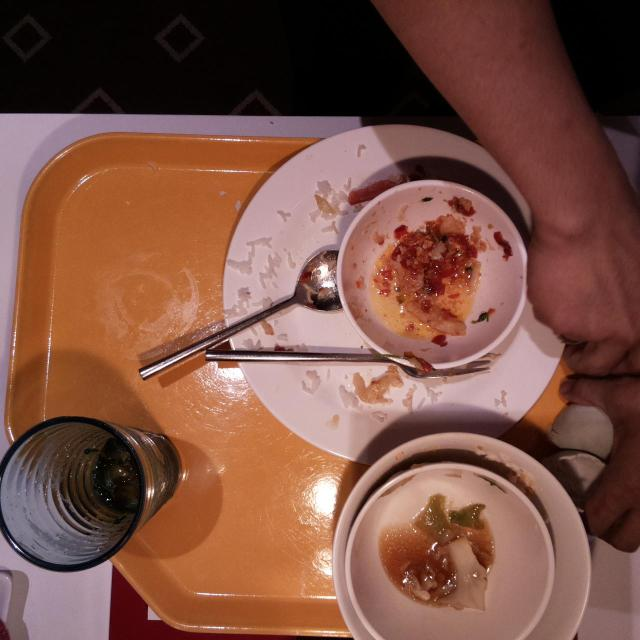Vegetable: (412, 491, 449, 545), (452, 502, 488, 530)
